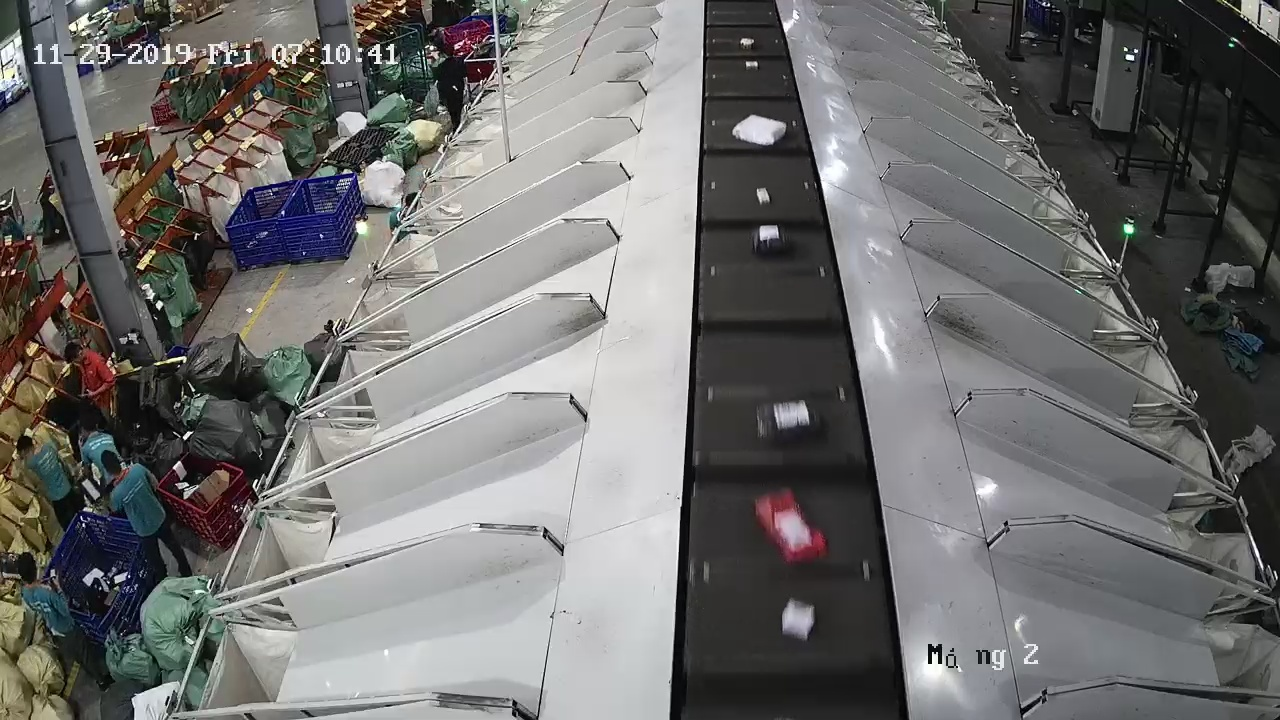parcel: (754, 487, 829, 567), (755, 399, 823, 443), (731, 114, 786, 146), (781, 597, 814, 641), (751, 226, 792, 256), (756, 187, 770, 206)
